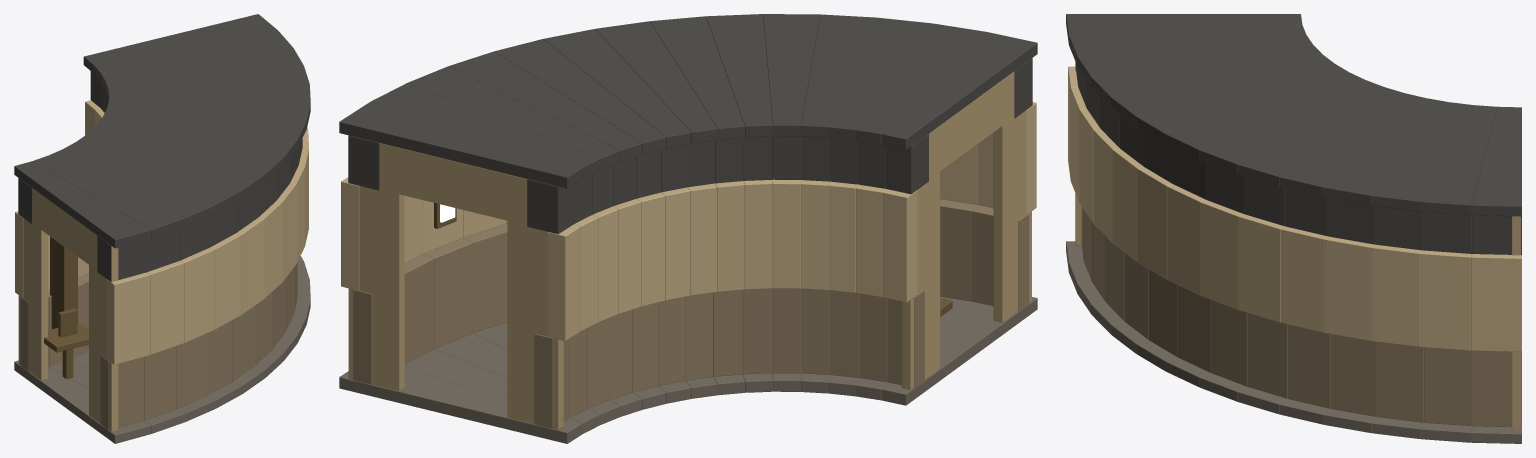
The model's file is bend.glb.
3 views of the same model, side by side, from view 1: azimuth 30°, elevation 25°; view 2: azimuth 150°, elevation 25°; view 3: azimuth 270°, elevation 25° (orthographic). The views are drawn at different scales.
Parts seen in each view (by area): view 1: BEND; view 2: BEND; view 3: BEND.
Boxes of the visible parts, bbox=[...] form: BEND: bbox=[14, 14, 310, 443]; BEND: bbox=[339, 14, 1037, 443]; BEND: bbox=[1066, 14, 1521, 443].
Size of the model in its own units: 4.85 by 2.79 by 4.85.
